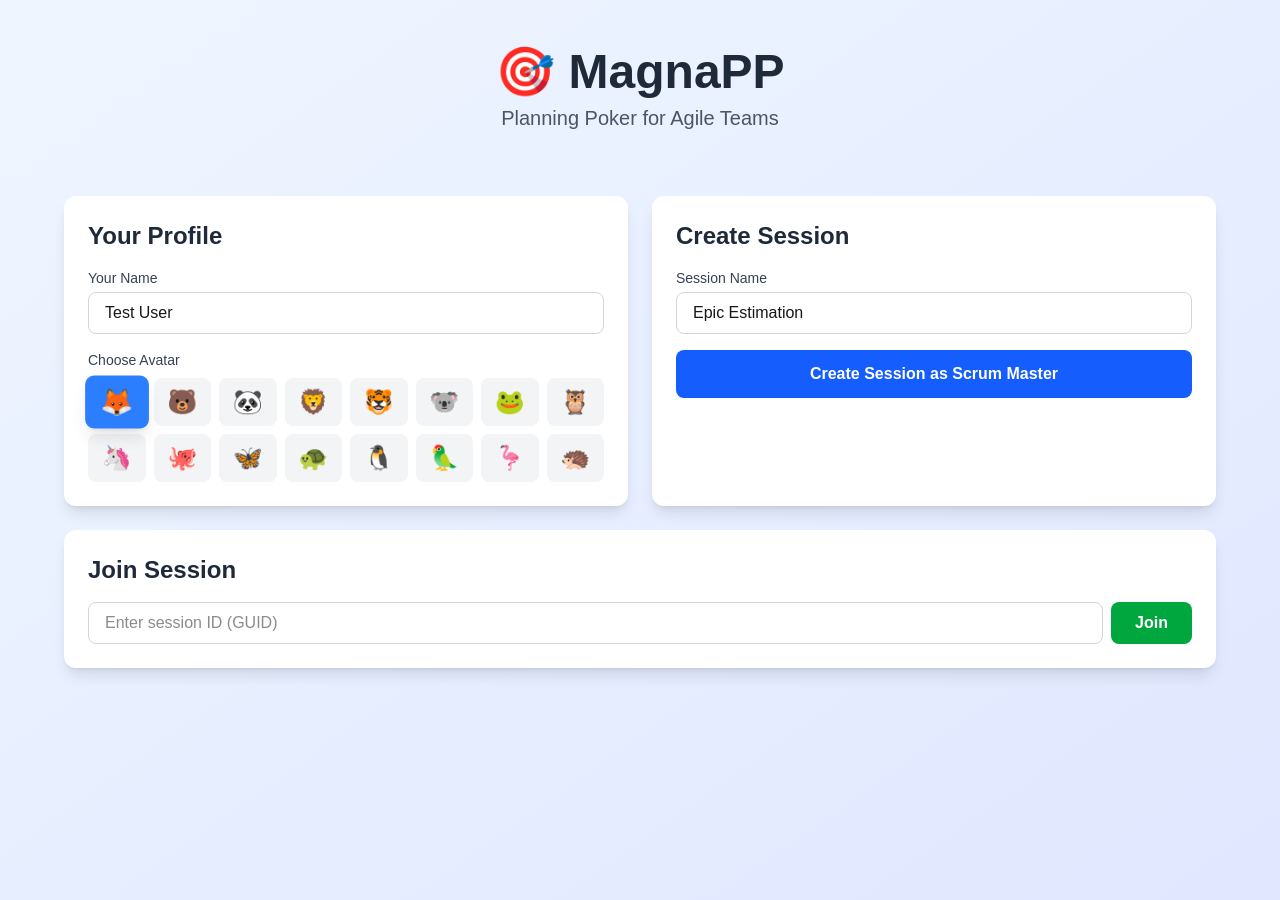
it: SessionLobby › shows error when joining with invalid session ID
This screenshot has width=1280, height=900.
Type "invalid-id" into the field with placeholder "Enter session ID (GUID)". click: (596, 623)
box: [88,602,1103,644]
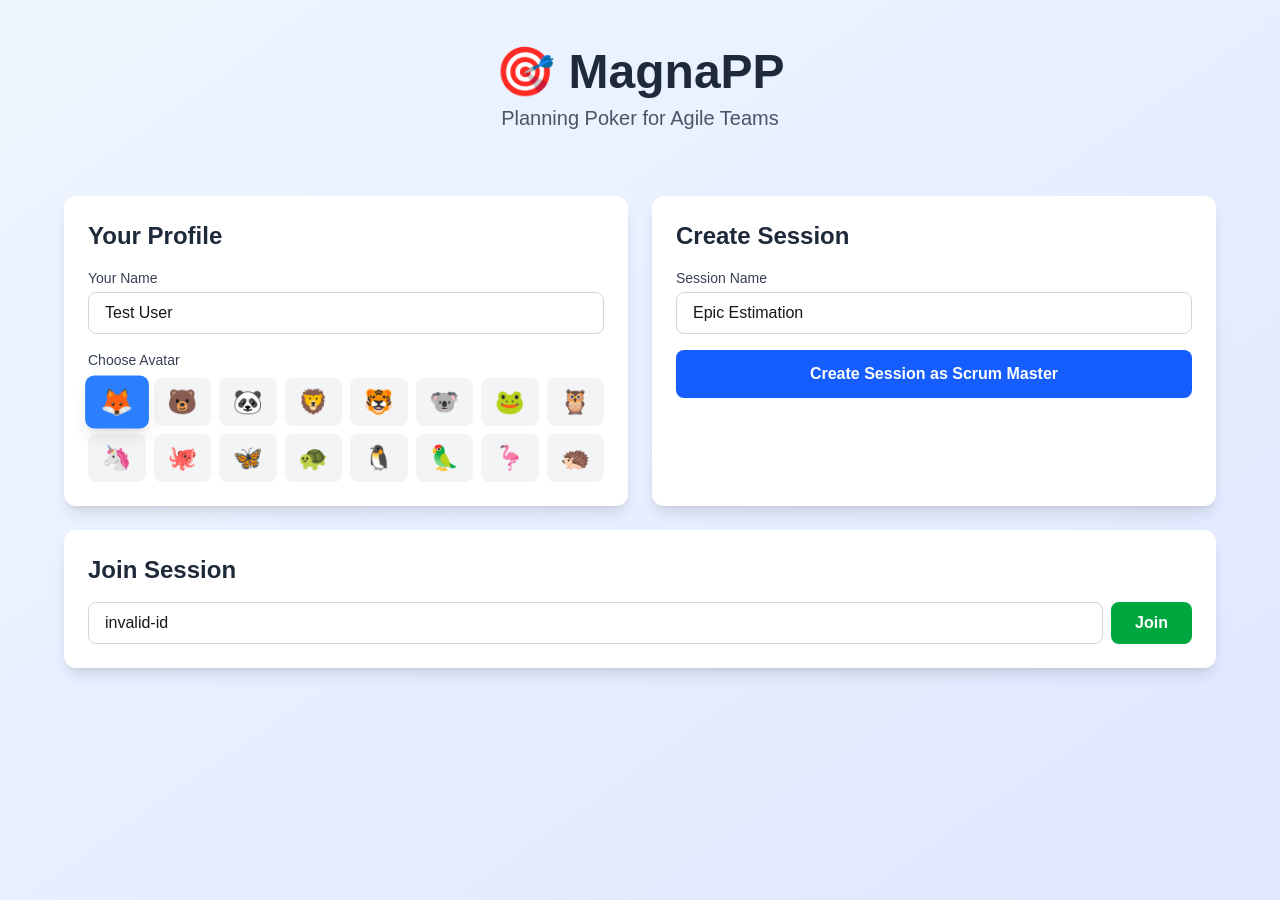
Click the button "Join". click: click(1152, 623)
box: [1111,602,1192,644]
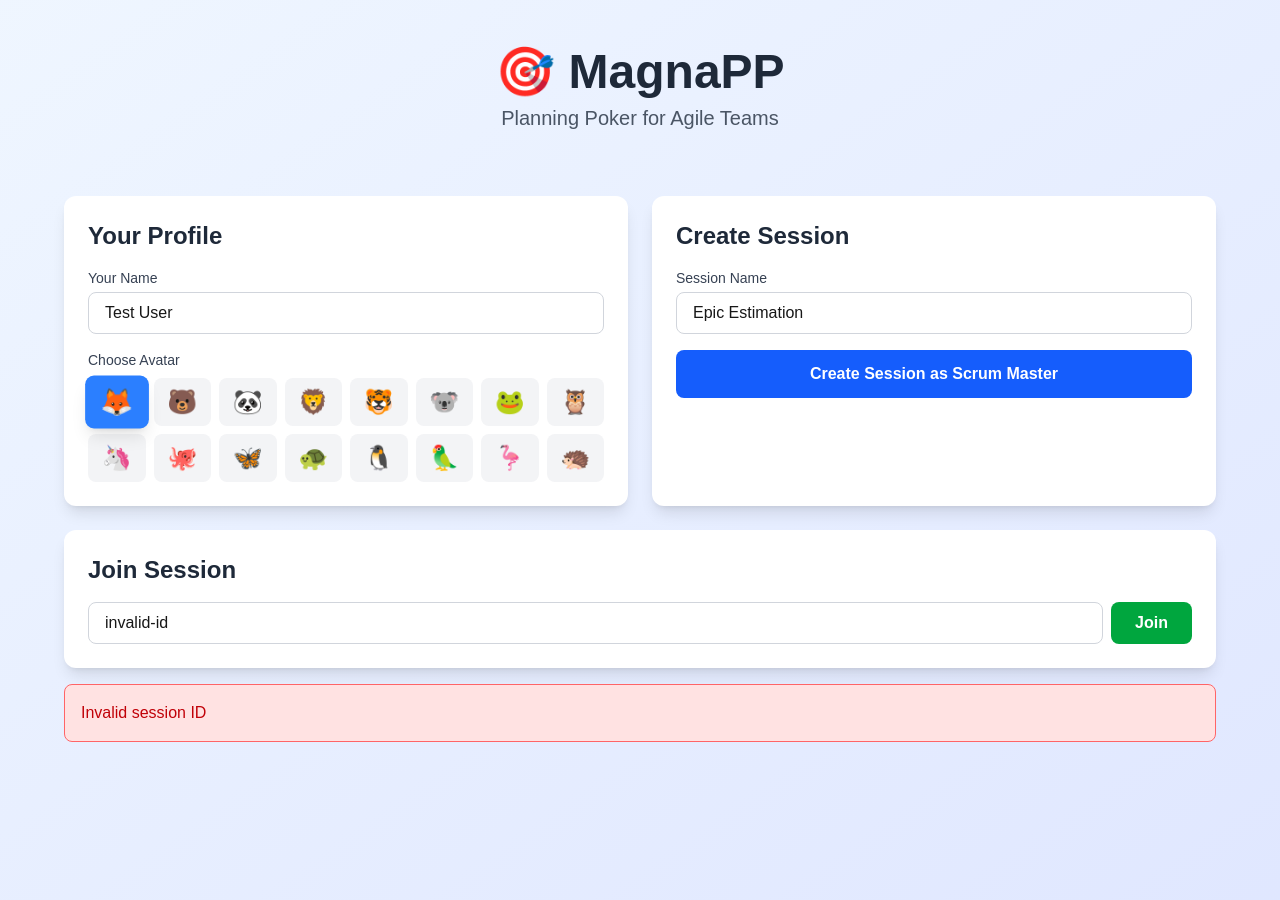
Expected: the text "Invalid session ID" is shown, [64,684,1216,742]
